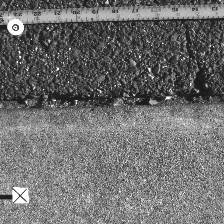circle: (6, 18, 24, 35)
crack: (1, 93, 221, 110)
square: (11, 187, 28, 203)
